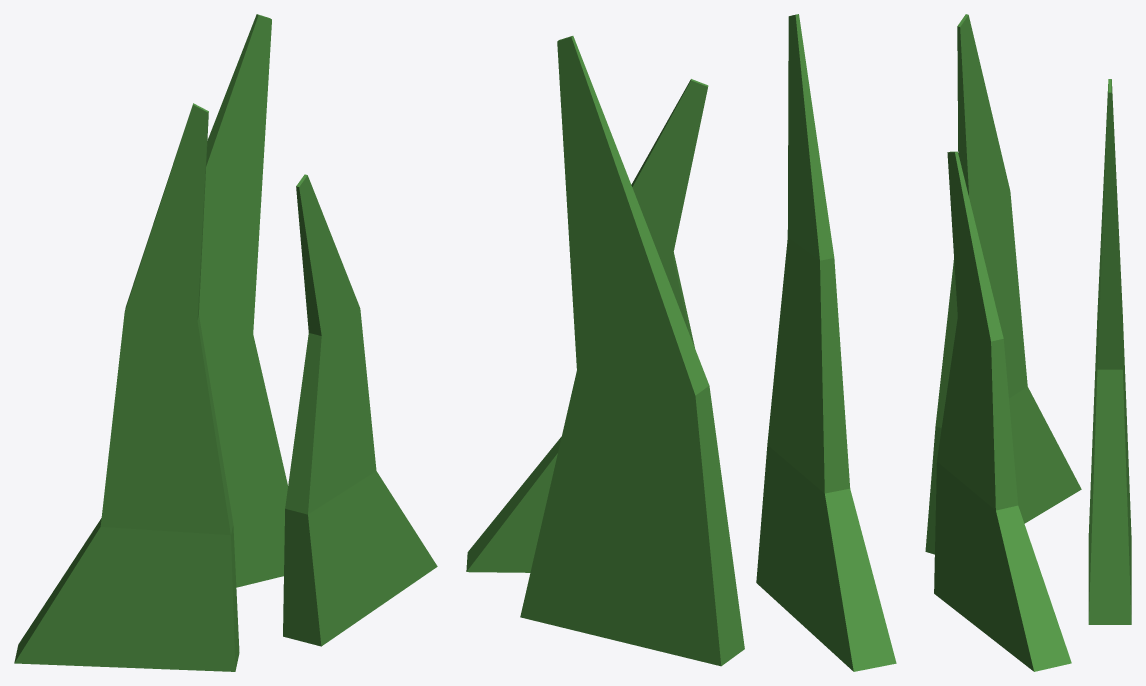
The model's file is Grama .fbx.
3 views of the same model, side by side, from view 1: azimuth 30°, elevation 25°; view 2: azimuth 150°, elevation 25°; view 3: azimuth 270°, elevation 25° (orthographic). The views are drawn at different scales.
Visible parts, largest first — view 1: Grass; view 2: Grass; view 3: Grass.
Boxes of the visible parts, bbox=[...] form: Grass: bbox=[14, 14, 437, 671]; Grass: bbox=[466, 14, 896, 671]; Grass: bbox=[925, 14, 1131, 671].
Bounding box in the file's own units: 433 × 553 × 196.
